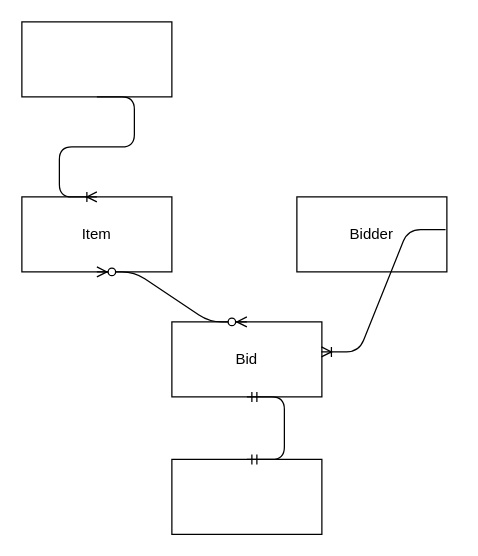
The diagram is 478 pixels wide and 556 high, and some of its shapes have lost their labels. The shapes that lost their labels are listed below. From the top down, each one's centre as x and y in pixels, then its label:
point 96,59: Seller
point 246,496: Sale
